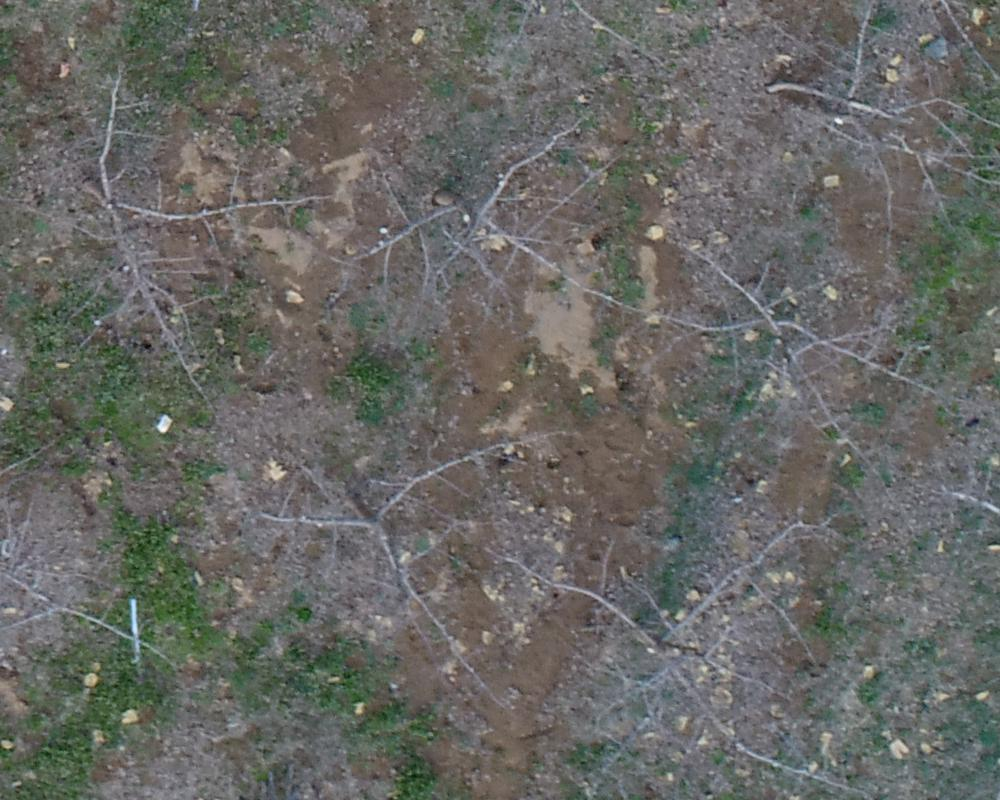apple: (525, 495, 888, 790), (246, 403, 566, 711), (587, 220, 964, 473), (34, 71, 331, 382), (337, 120, 652, 335), (758, 12, 990, 223), (10, 427, 164, 673)
